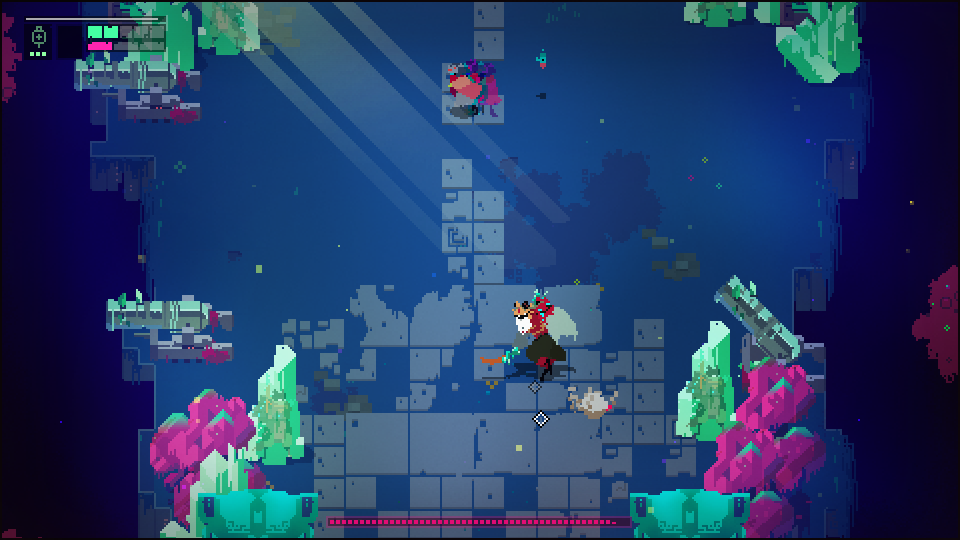hanged_man: (490, 284, 581, 381)
player: (442, 55, 482, 117)
